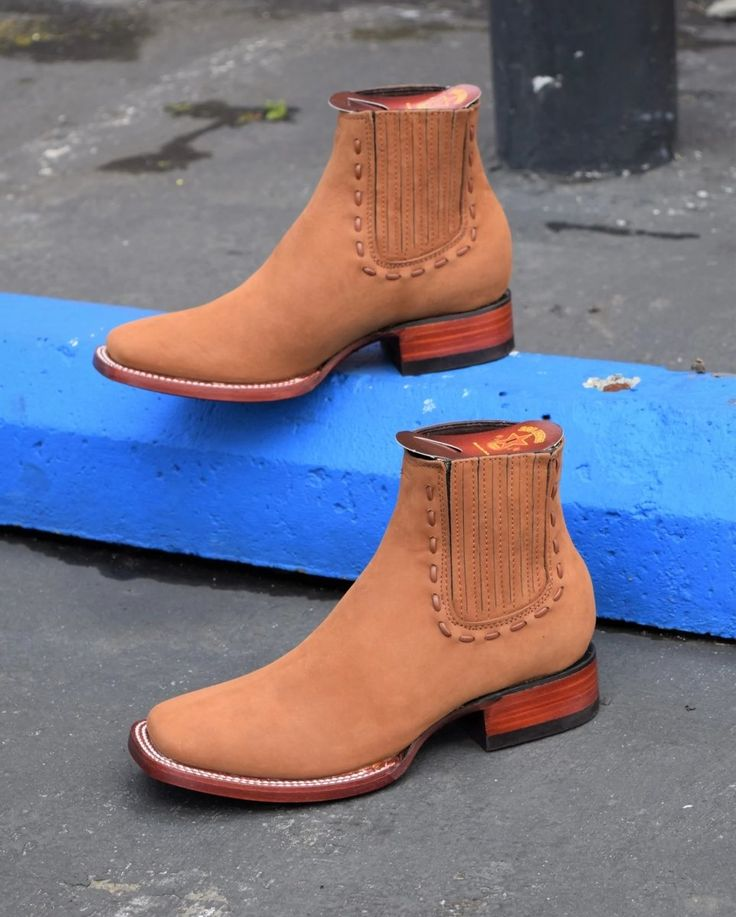gamuza: (105, 86, 595, 777)
